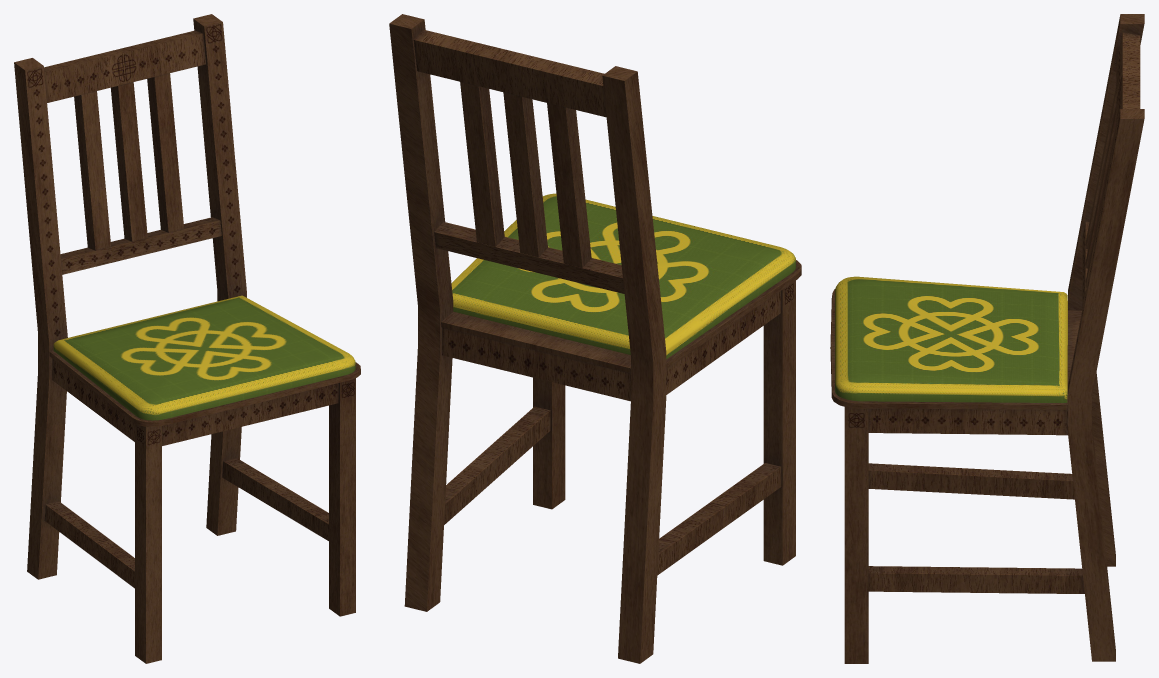
Rendered from chair.fbx.
3 views of the same model, side by side, from view 1: azimuth 30°, elevation 25°; view 2: azimuth 150°, elevation 25°; view 3: azimuth 270°, elevation 25° (orthographic). The views are drawn at different scales.
Visible parts, largest first — view 1: Chair; view 2: Chair; view 3: Chair.
Part boxes in pixels (left/top/right/bottom): Chair: left=14, top=14, right=360, bottom=663; Chair: left=389, top=14, right=801, bottom=663; Chair: left=830, top=14, right=1144, bottom=663.
Size of the model in its own units: 42.25 by 89.86 by 47.14.
1 material, 1 textured.
